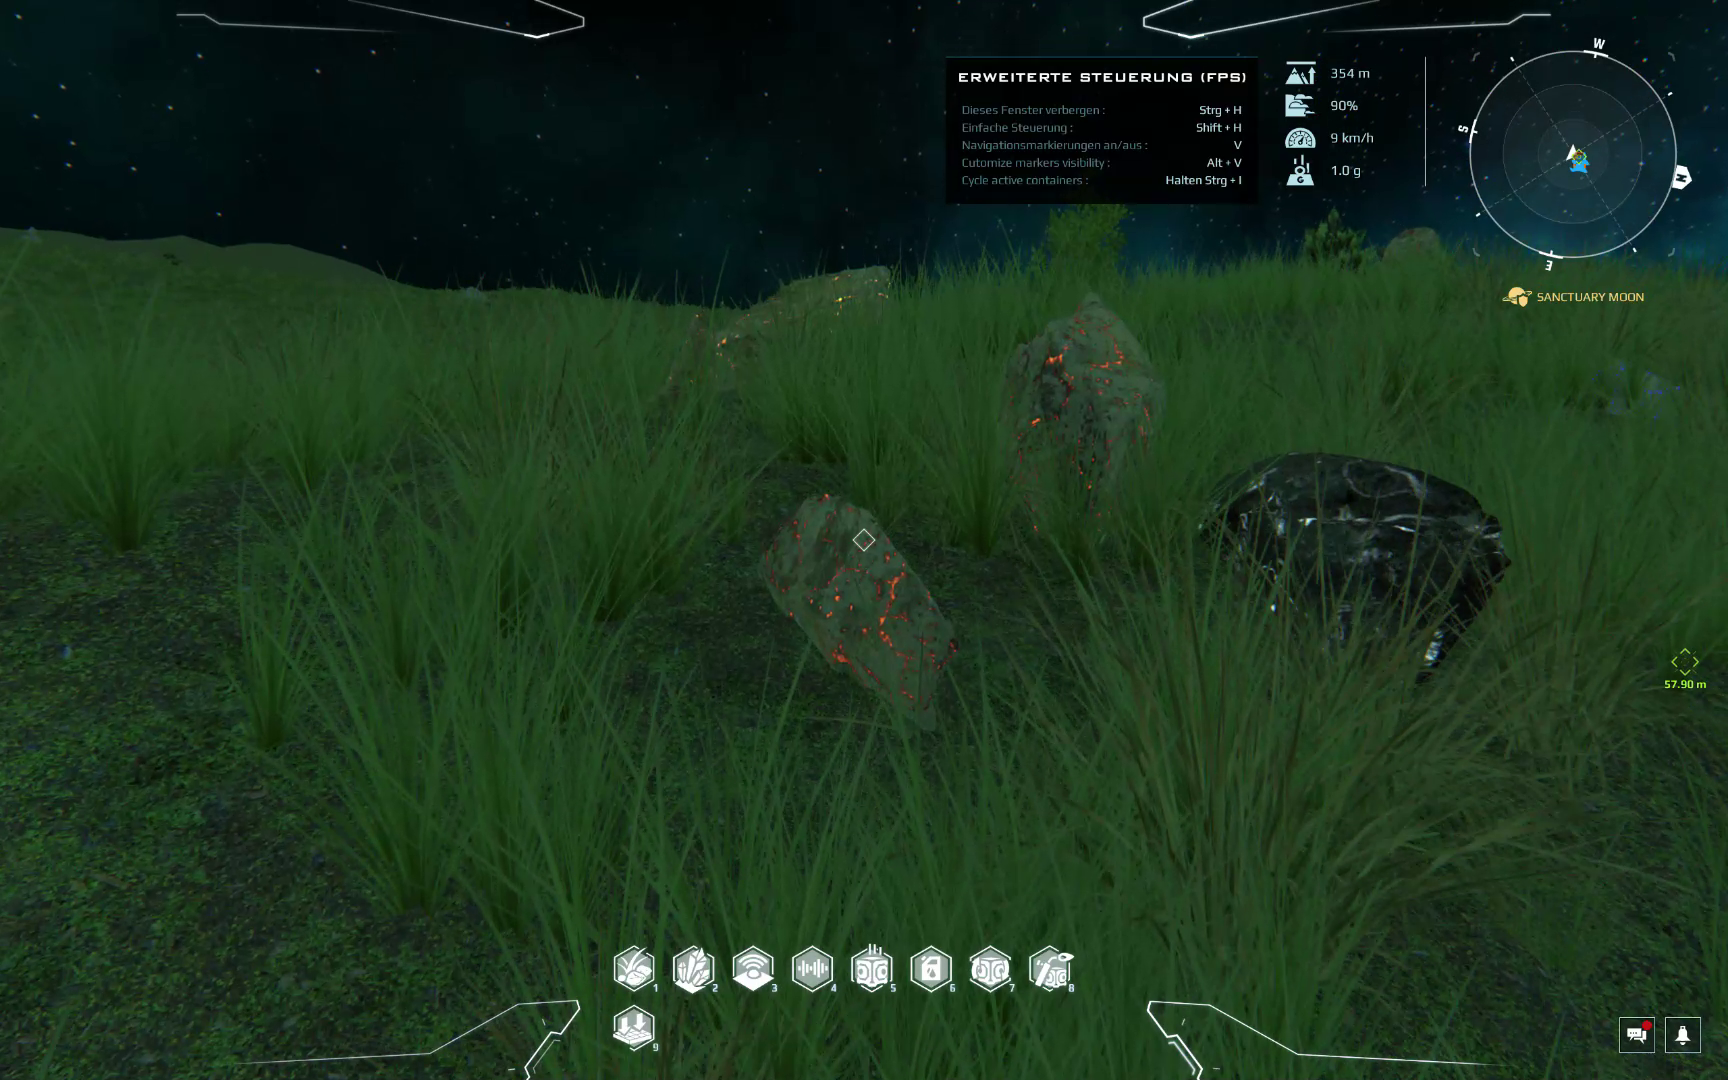Ore: (1210, 450, 1498, 666), (758, 488, 957, 722), (995, 302, 1163, 531), (717, 268, 894, 372), (648, 311, 709, 428)
